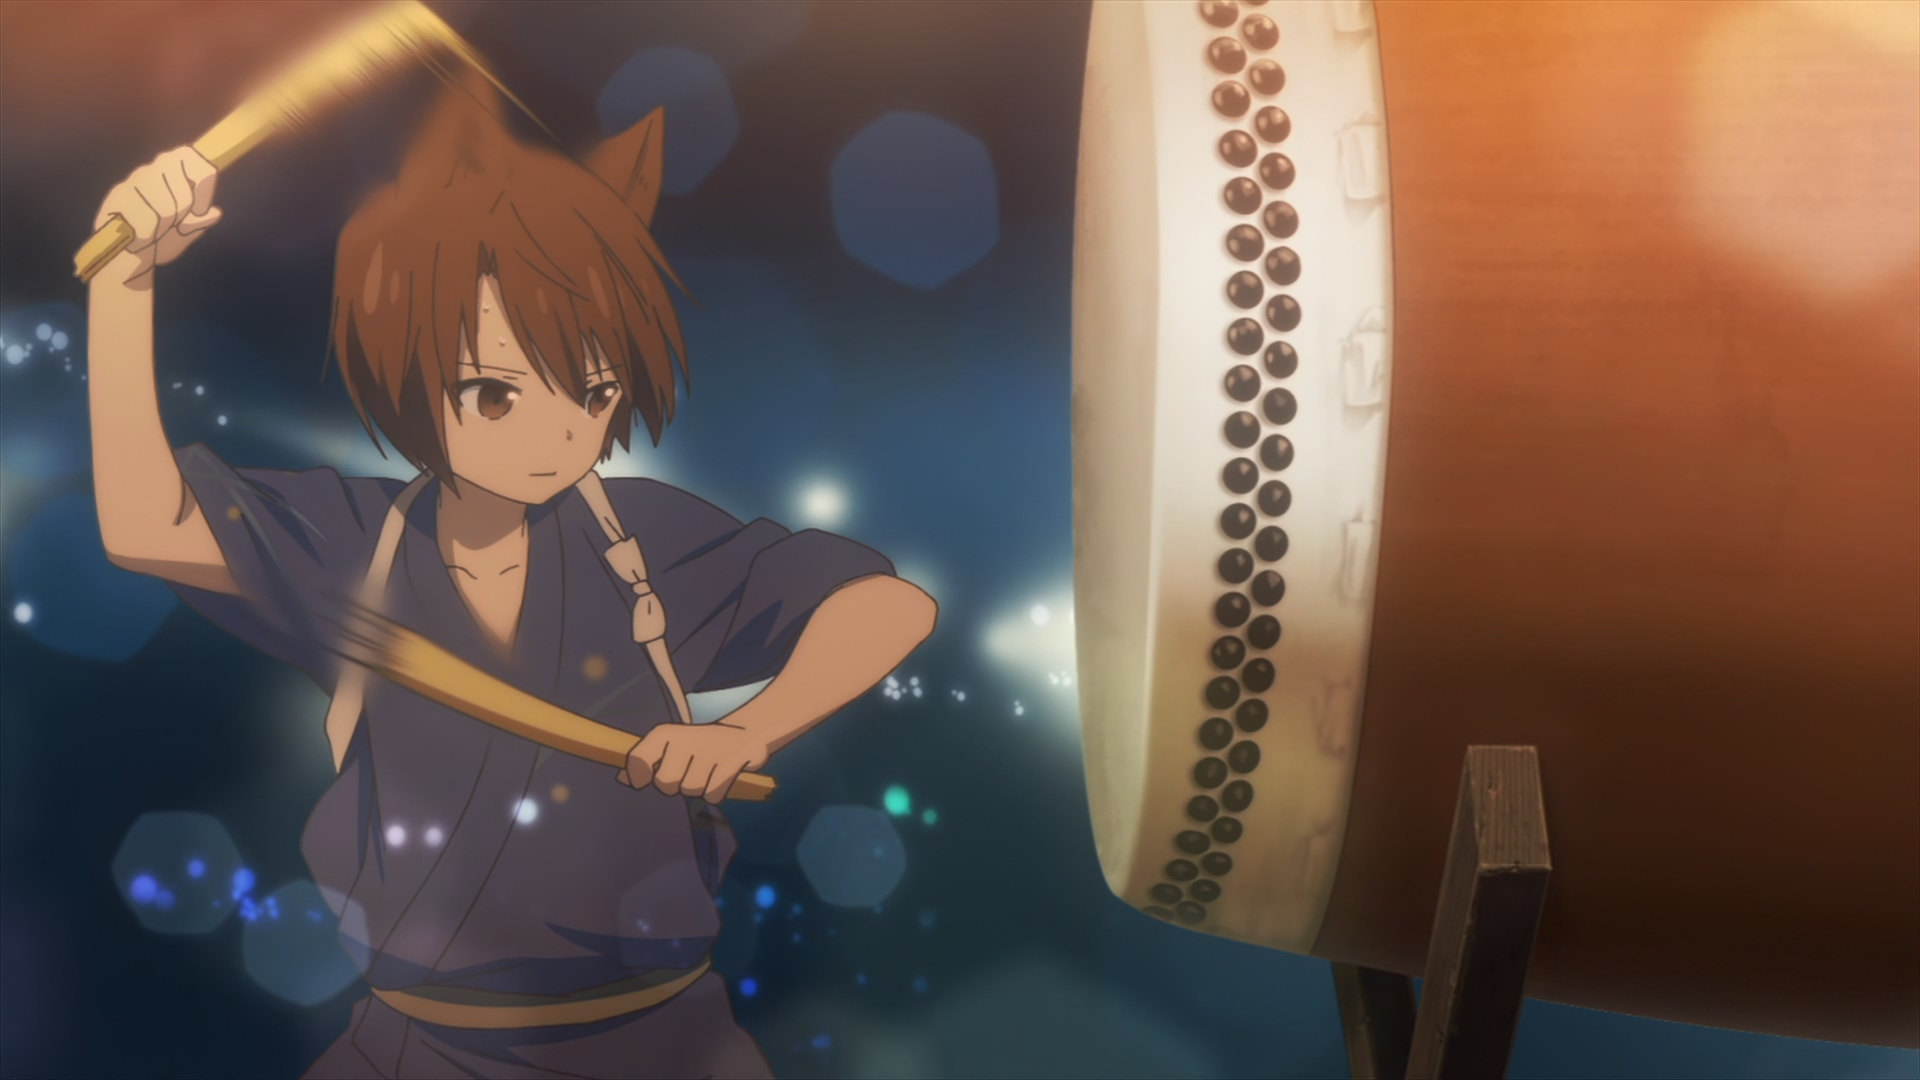枣: (69, 7, 936, 1080)
